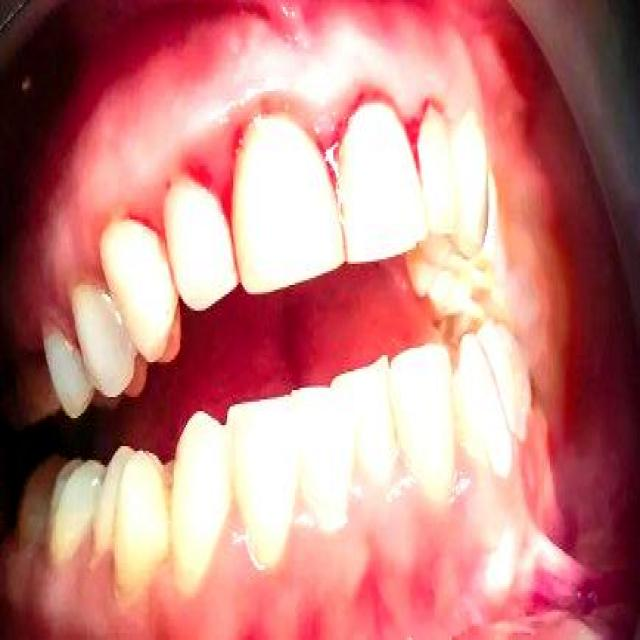gingivitis: (41, 0, 478, 287), (44, 498, 563, 638)
